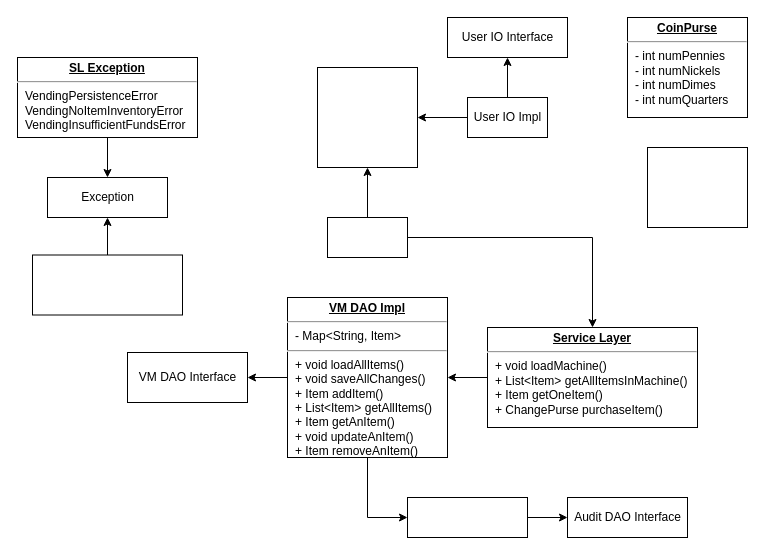
The diagram is 765 pixels wide and 555 high, and some of its shapes have lost their labels. The shapes that lost their labels are listed below. From the top down, each one's centre as x and y in pixels, then its label:
At [367,117]: "VM View + Items/Prices + Select ItemID + Add Money + Money Return".
At [697,187]: "Item - String ItemID - String Name - int Quantity".
At [367,237]: "Controller".
At [107,284]: "DAO Exception VendingPersistenceError".
At [467,517]: "Audit DAO Impl".
